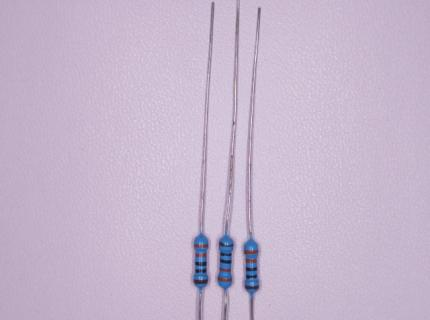Black band: (246, 266, 258, 271), (246, 274, 258, 279), (220, 259, 231, 264), (220, 252, 231, 257), (195, 269, 207, 273), (195, 262, 207, 266)
Brown band: (219, 241, 233, 247), (193, 279, 208, 284), (245, 285, 259, 290)
Orange band: (218, 277, 232, 282), (244, 249, 258, 254), (193, 244, 208, 248), (220, 267, 232, 272), (246, 258, 257, 263), (195, 253, 207, 257)
